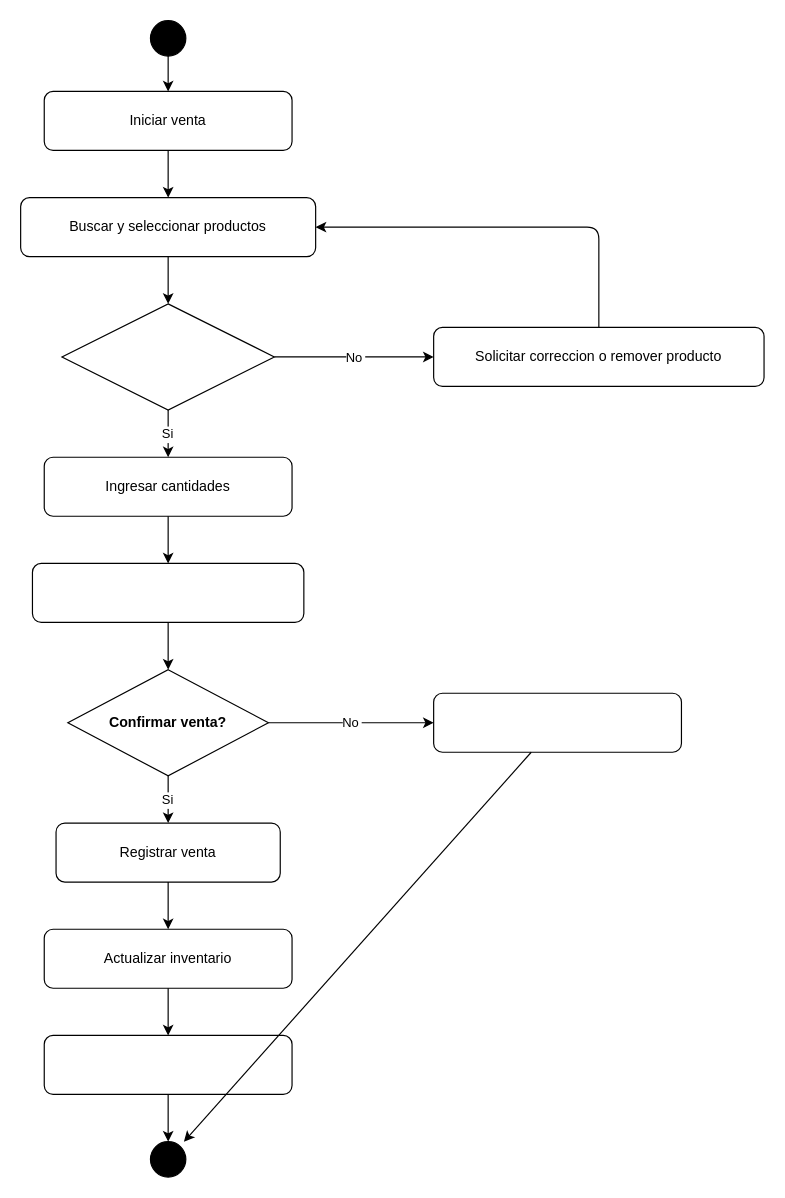
Some shapes in this 785 by 1198 pixel diagram are drawn without their labels. The shapes that lost their labels are listed below. From the top down, each one's box as (x1, y1, x2, y2) in pixels, then its label:
(61, 303, 274, 410): Stock disponible?
(31, 562, 304, 622): Calcular subtotal y total
(432, 692, 681, 752): Cancelar operacion
(43, 1034, 292, 1094): Generar comprobante
